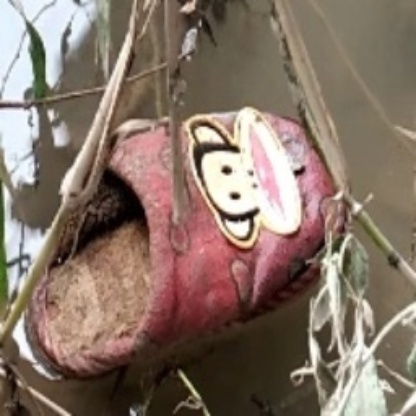plastic-garbage: (34, 113, 341, 374)
